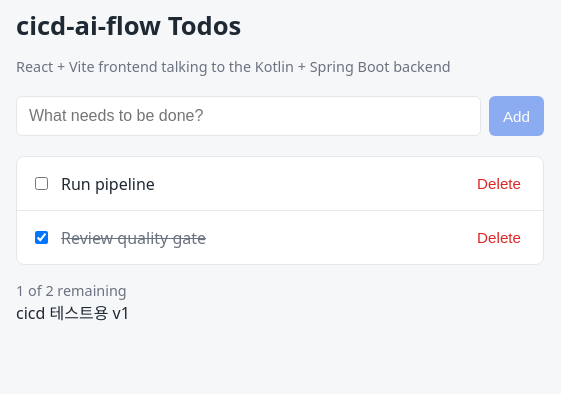
Test case: App › shows an error when a network failure occurs on delete
Expected: the text "Run pipeline" is shown, [61,173,155,195]
Click the button with aria-label "Delete Run pipeline": point(499, 184) [469,169,529,198]
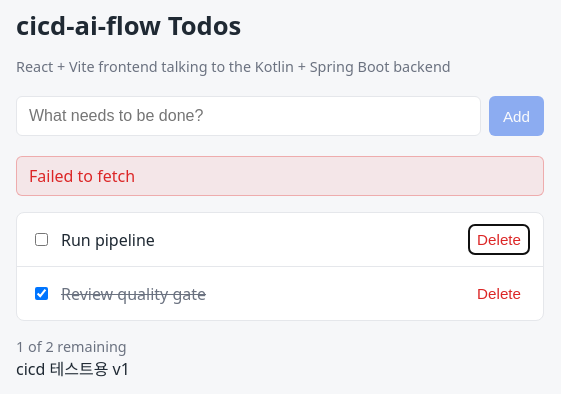
Expected: the text "Run pipeline" is shown, [61,229,155,251]
Result: the message reads "Failed to fetch" at [29,165,135,187]
